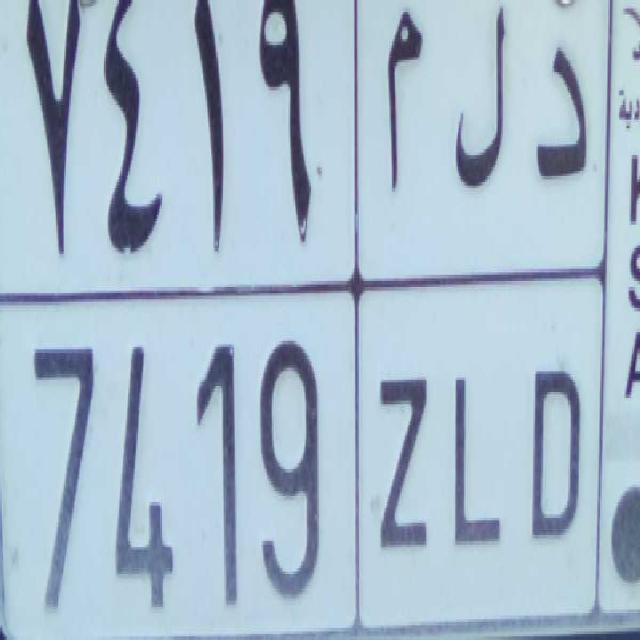license_plate: (0, 279, 593, 640)
